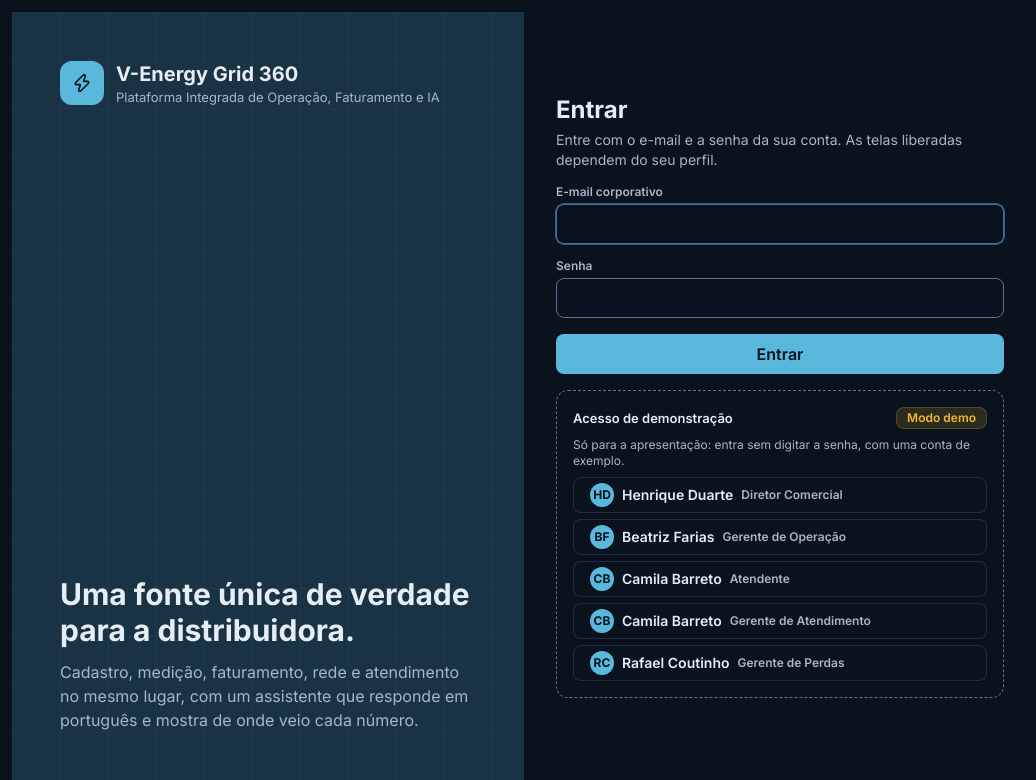
LoginPage › formulário › mostra o erro da API e volta ao formulário quando a credencial é recusada
The image size is (1036, 780).
Type "diretor@venergy.com" into the field labelled "E-mail corporativo".
click(780, 224); type("diretor@venergy.com")  # box [556,204,1004,244]
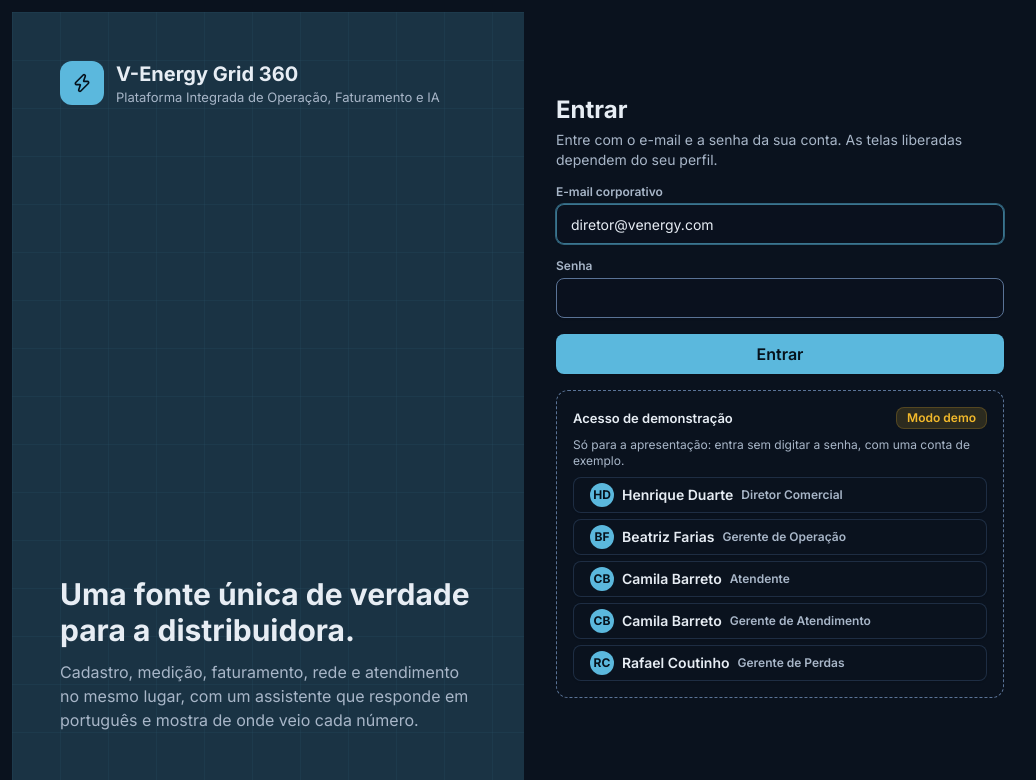
Type "errada" into the password field labelled "Senha".
click(780, 298); type("errada")  # box [556,278,1004,318]
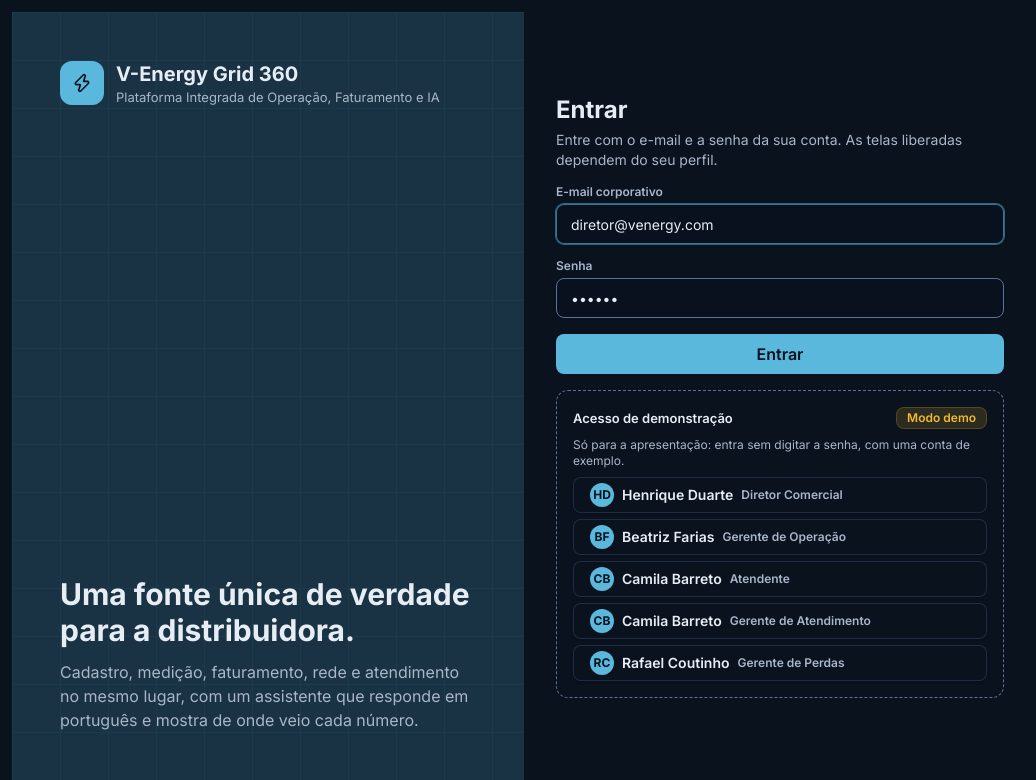
Submit the form labelled "Senha", box [556,186,1004,374]
Wait 400 ms
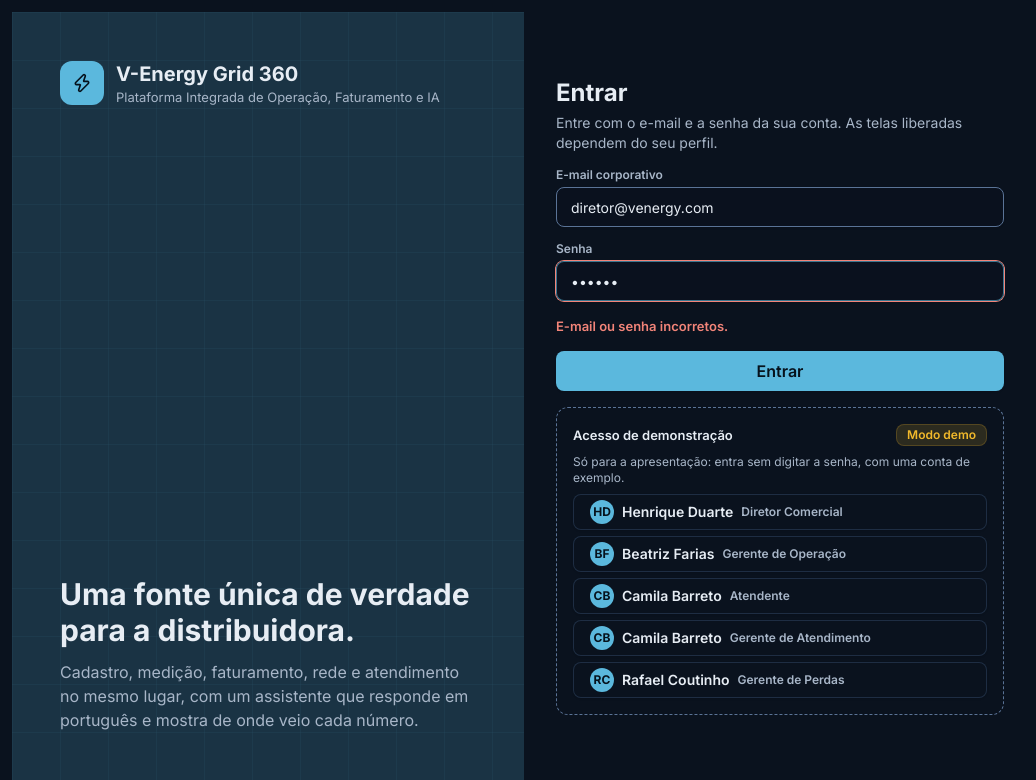
Expected: the heading "Entrar" is shown, [556,78,628,107]
Expected: the message reads "E-mail ou senha incorretos.", [556,318,728,334]
